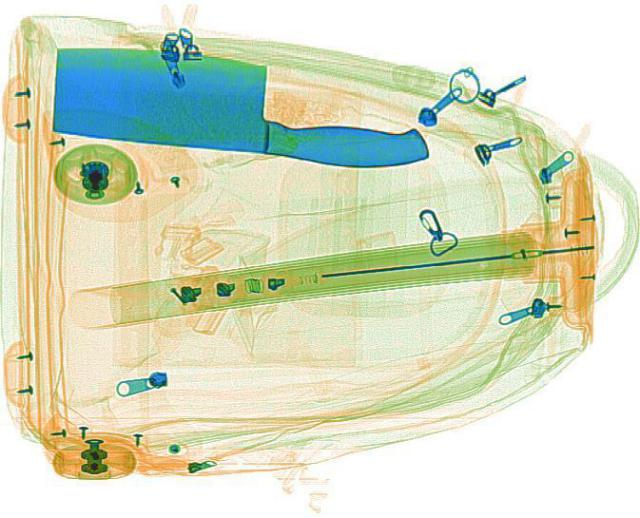Knife: (35, 38, 443, 173)
